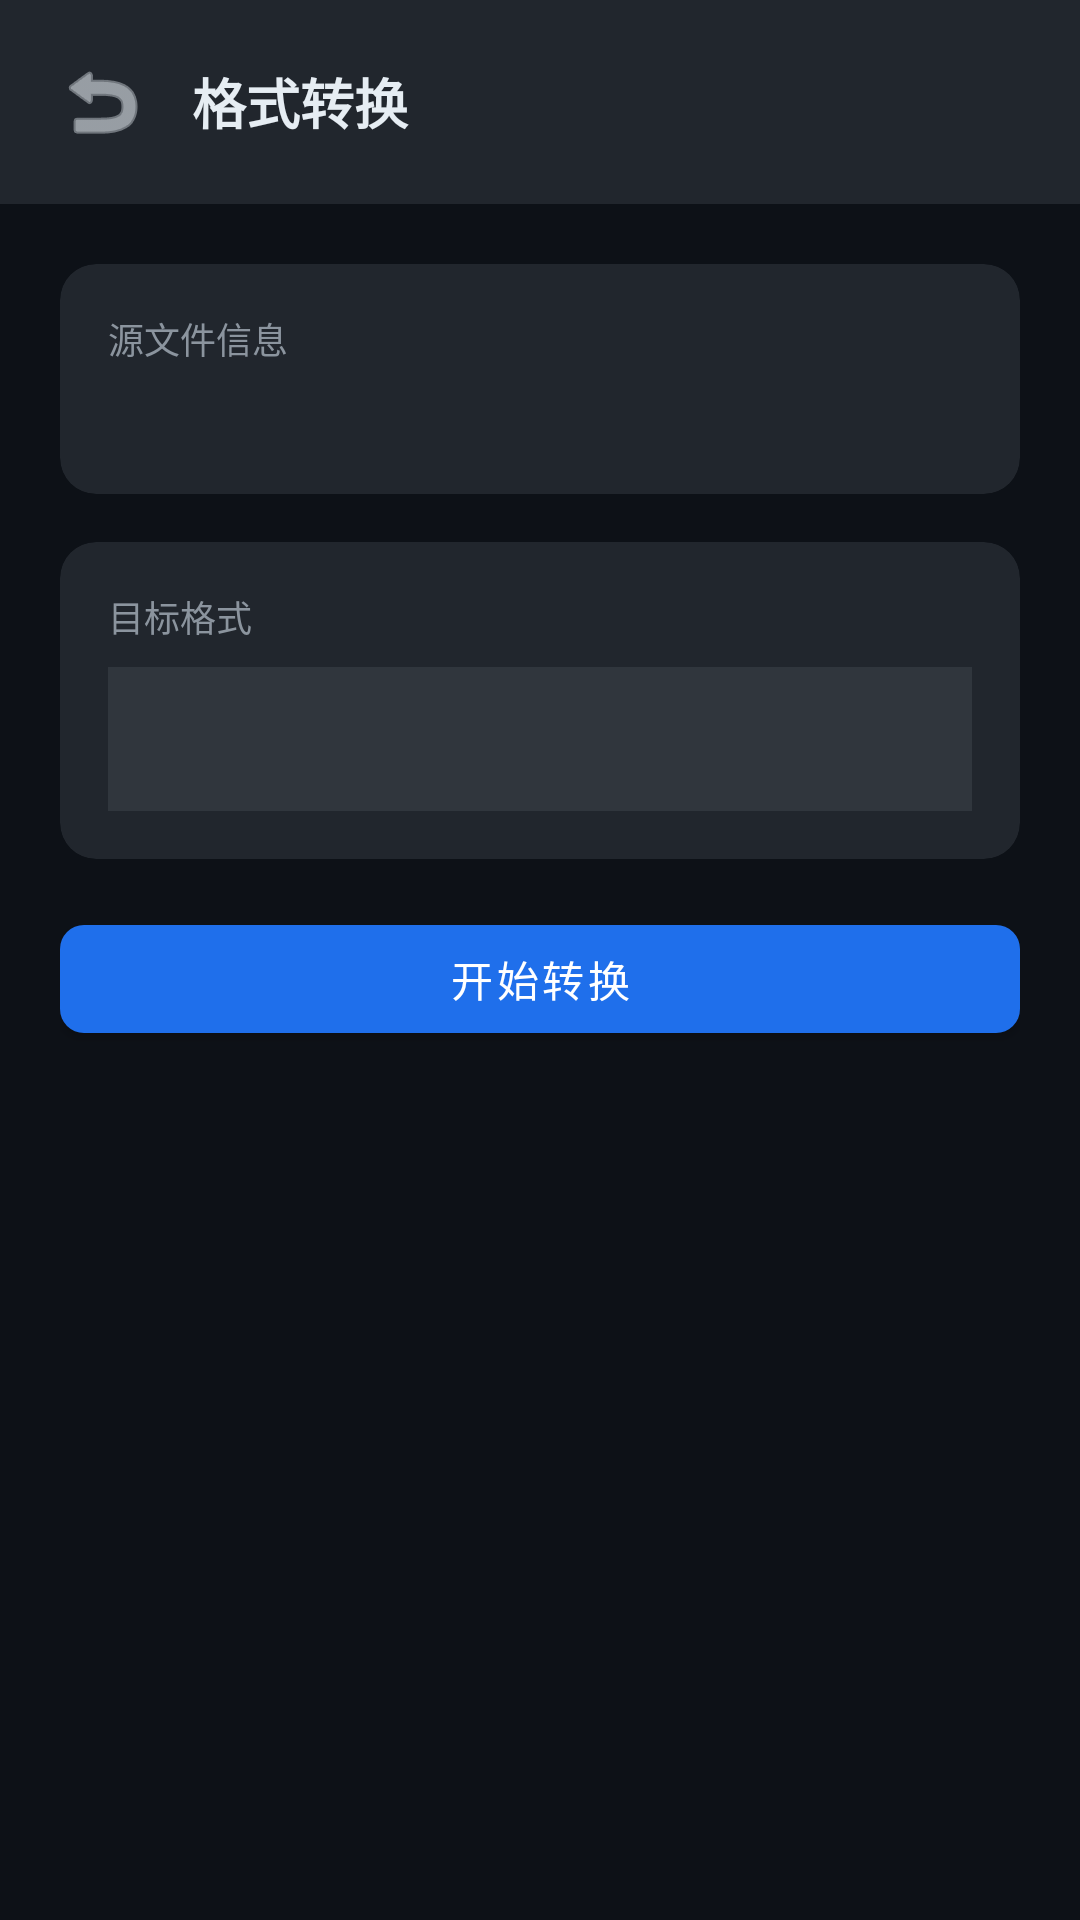

Icons on this 1080px×1920px Android screen, each with its box as bbox(x1, y1, x2, y2):
返回: bbox(69, 71, 138, 134)
